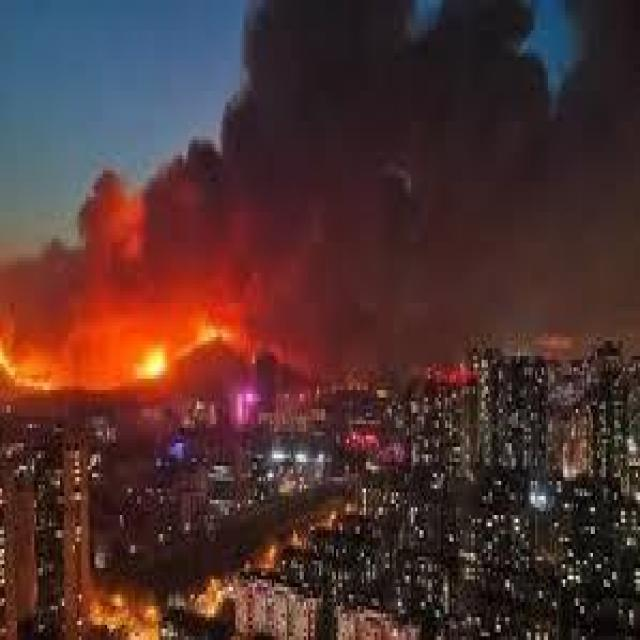Fire: (114, 302, 246, 382), (0, 318, 62, 390)
Smoke: (0, 0, 638, 341)
